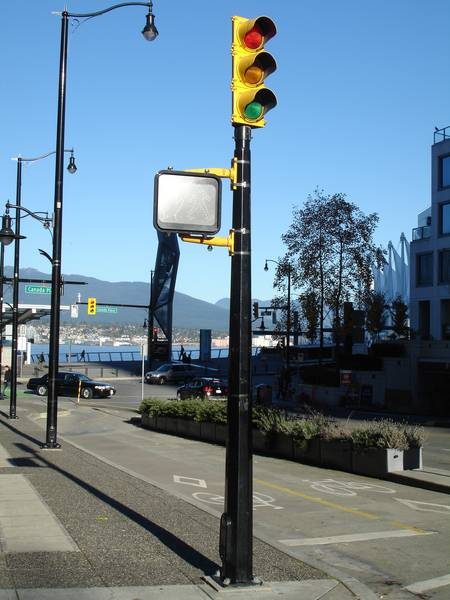pole: (155, 2, 291, 596), (30, 3, 161, 463)
